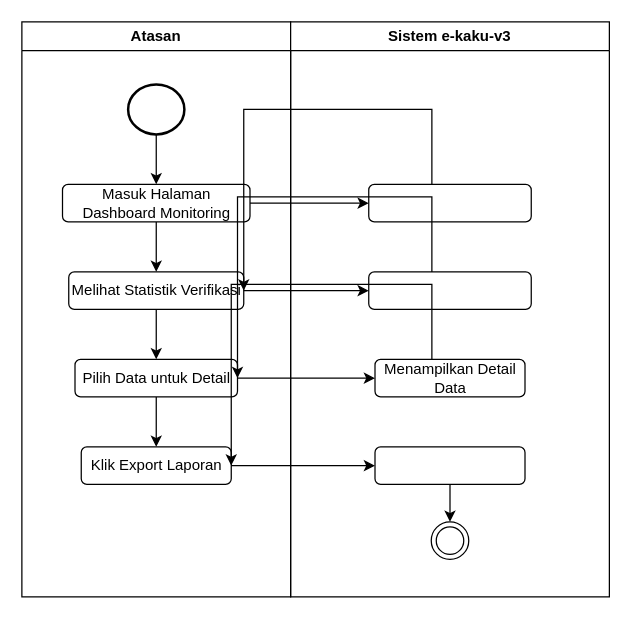
Some shapes in this 631 by 619 pixel diagram are drawn without their labels. Each missing label, with the centre of its shape:
Generate File Laporan: the point at 449,465
Memuat Halaman Dashboard: the point at 449,202
Menampilkan Data Statistik: the point at 449,290
